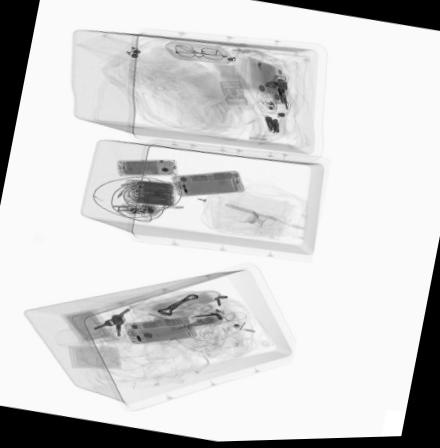Powerbank: (126, 177, 176, 206)
